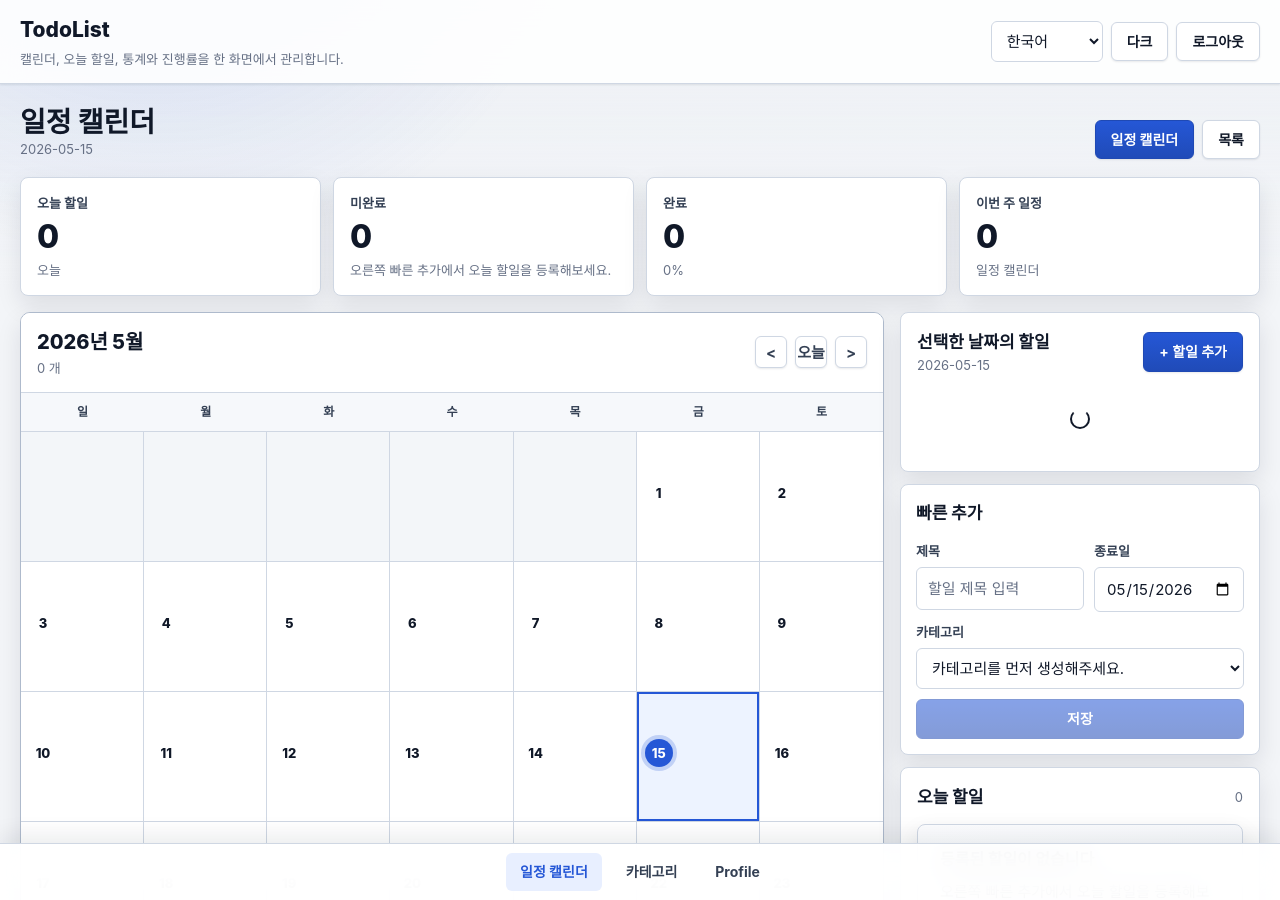
Test: TodoListPage › 삭제 모달에서 취소 클릭 시 다이얼로그가 닫힌다
This screenshot has width=1280, height=900.
Click the button "목록" at (1231, 140), box [1202,120,1260,159]
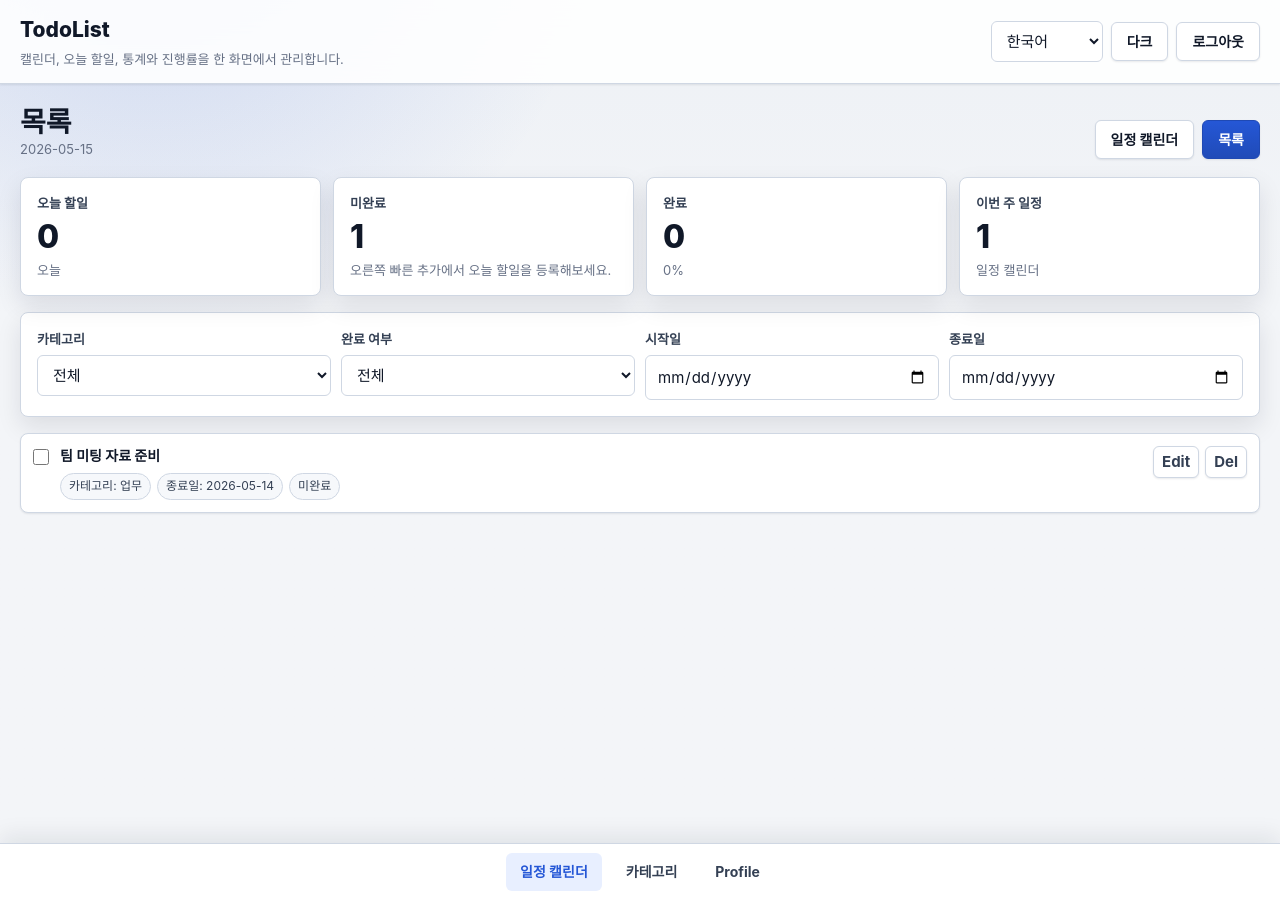
Now the text "팀 미팅 자료 준비" is shown, box [60,447,160,464]
Click the button with aria-label "삭제: 팀 미팅 자료 준비" at (1226, 462), box [1205,446,1247,478]
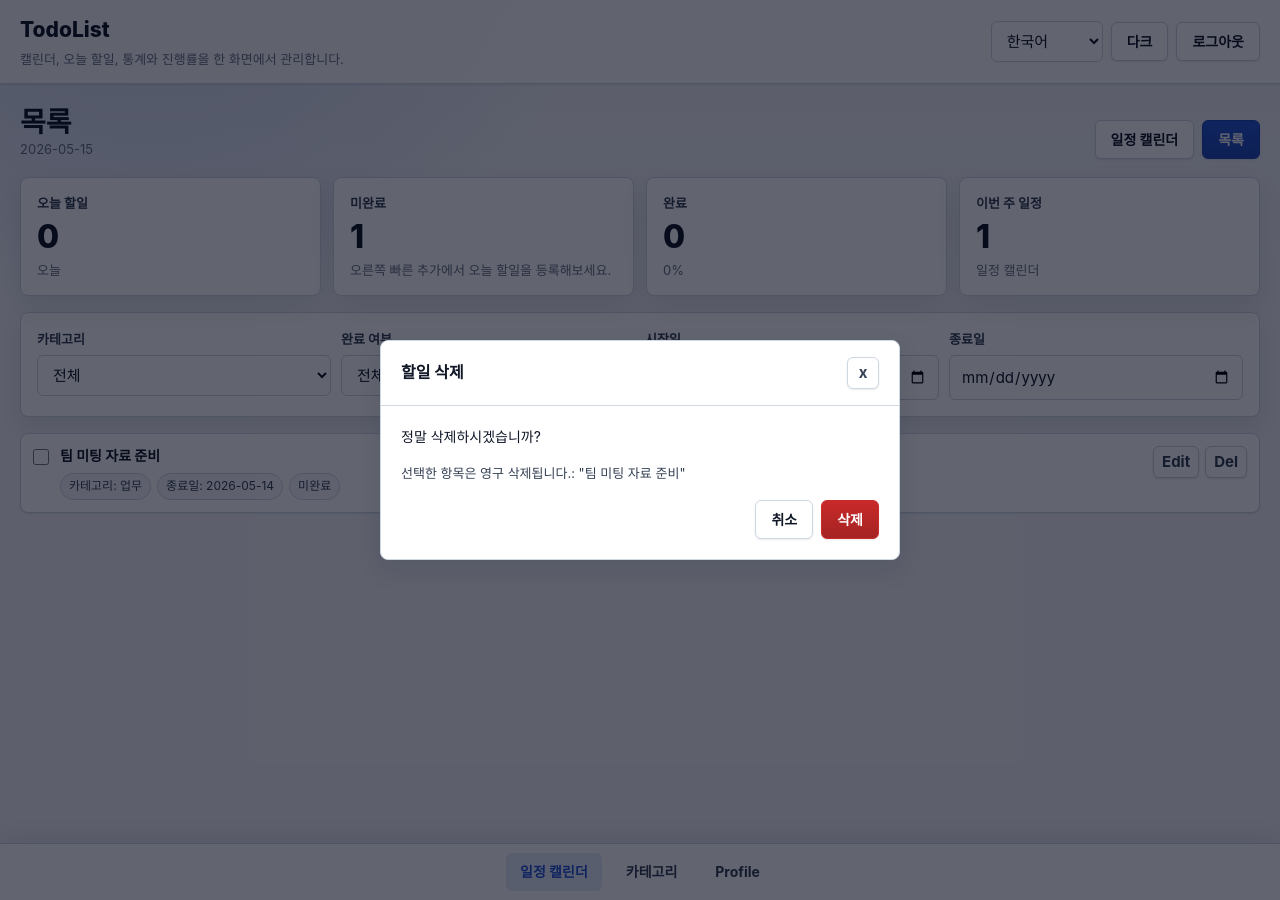
Click the button "취소" at (784, 519), box [756,500,813,539]
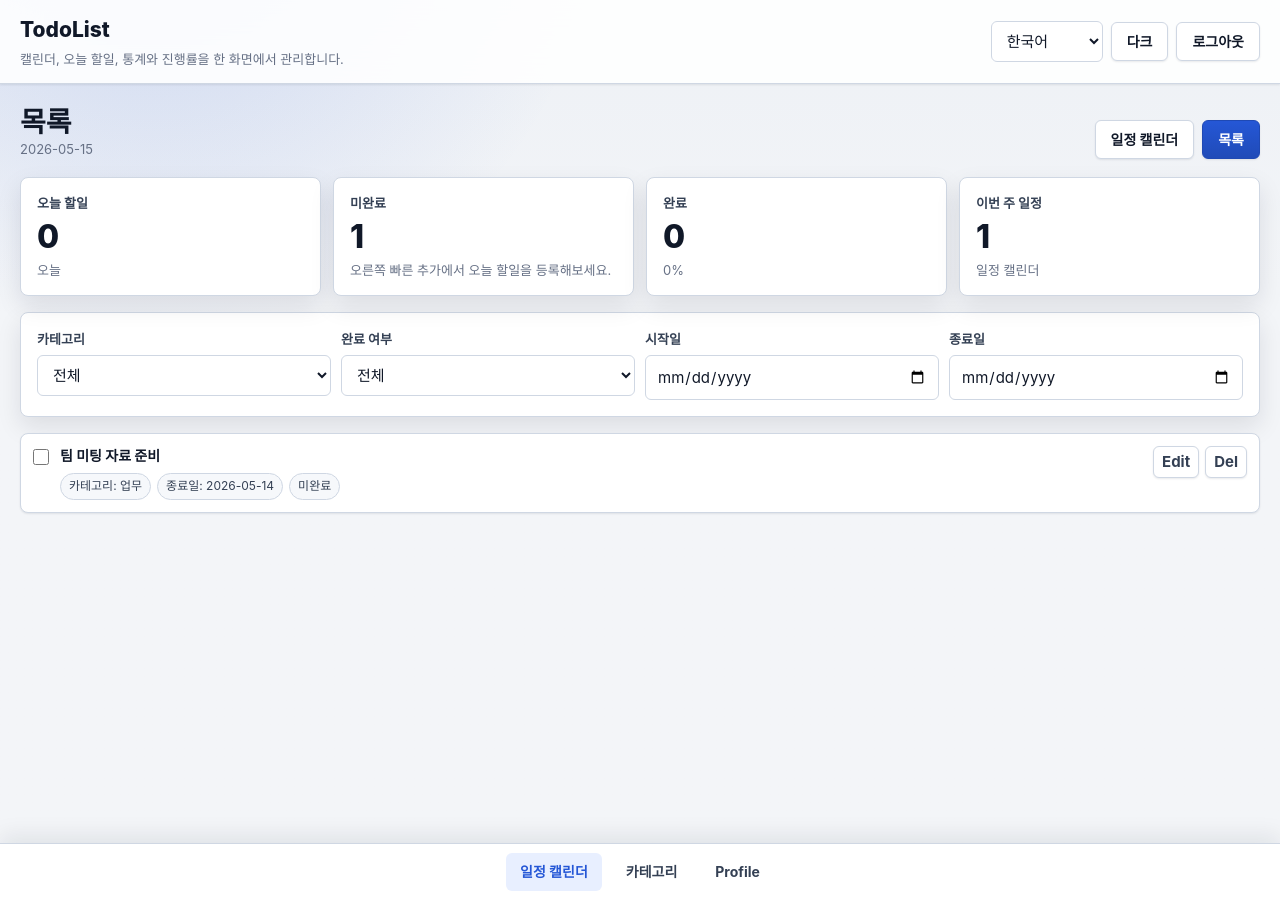
Now the dialog is gone
